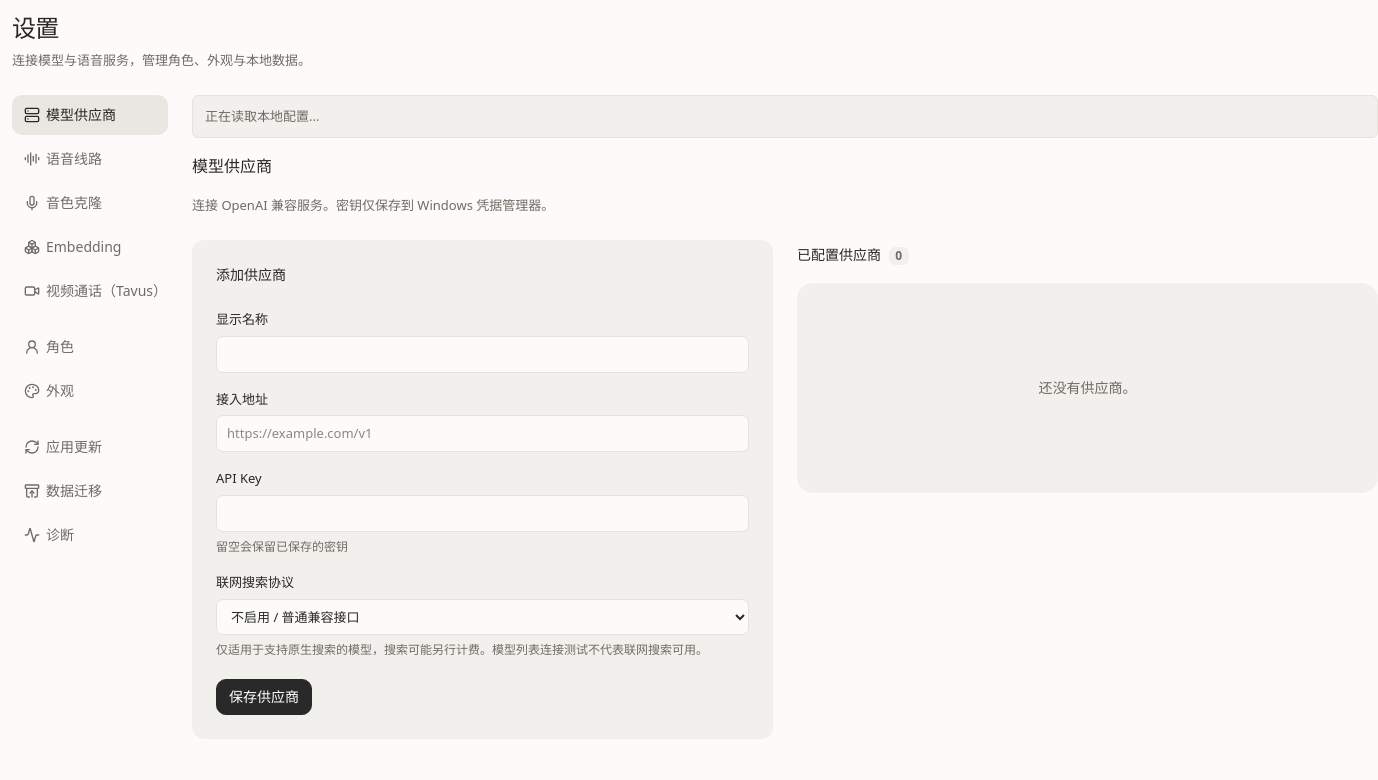
Test case: SettingsPage service categories › edits an existing reference and updates metadata without rerecording
Click the button "音色克隆" at (90, 203), box [12,183,168,223]
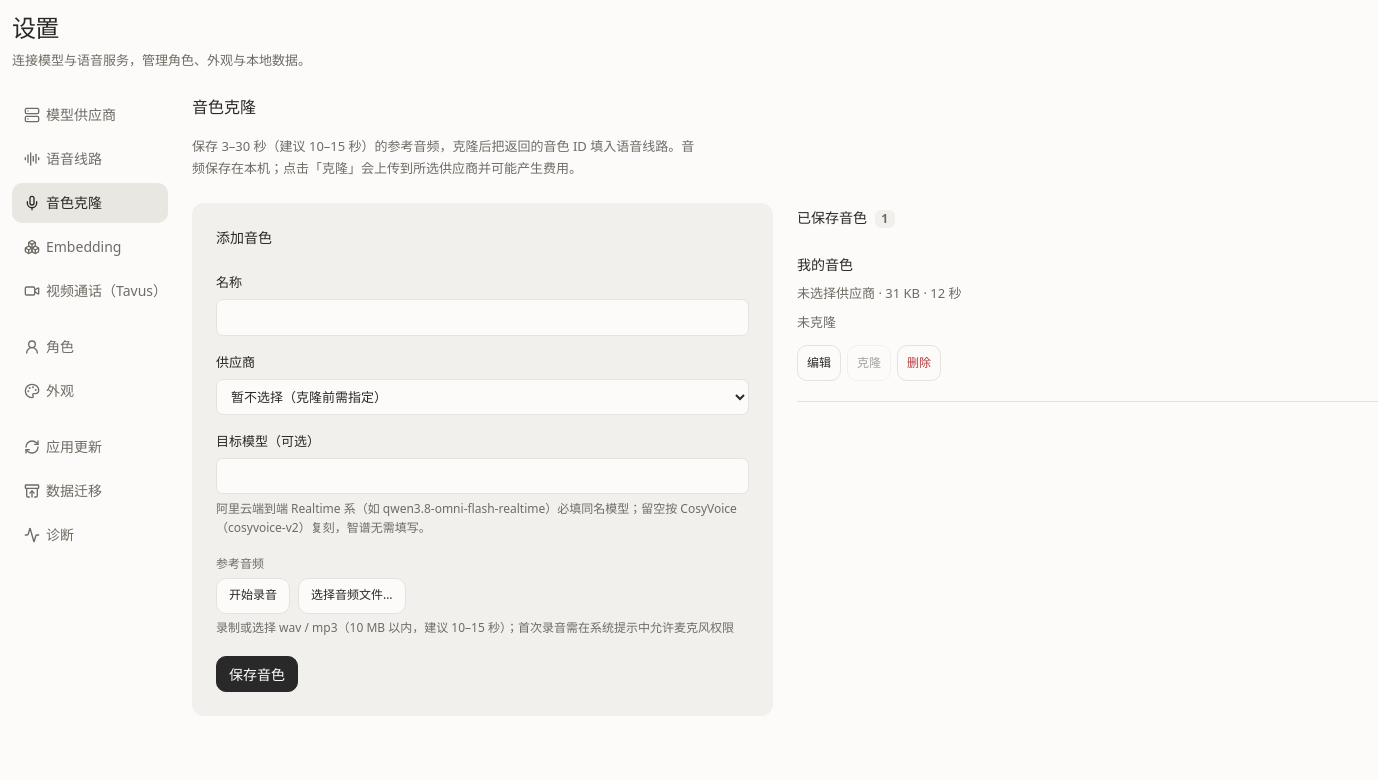
Now the heading "我的音色" is shown, box [797,255,853,274]
Click the button with aria-label "编辑 我的音色" at (819, 363), box [797,345,841,381]
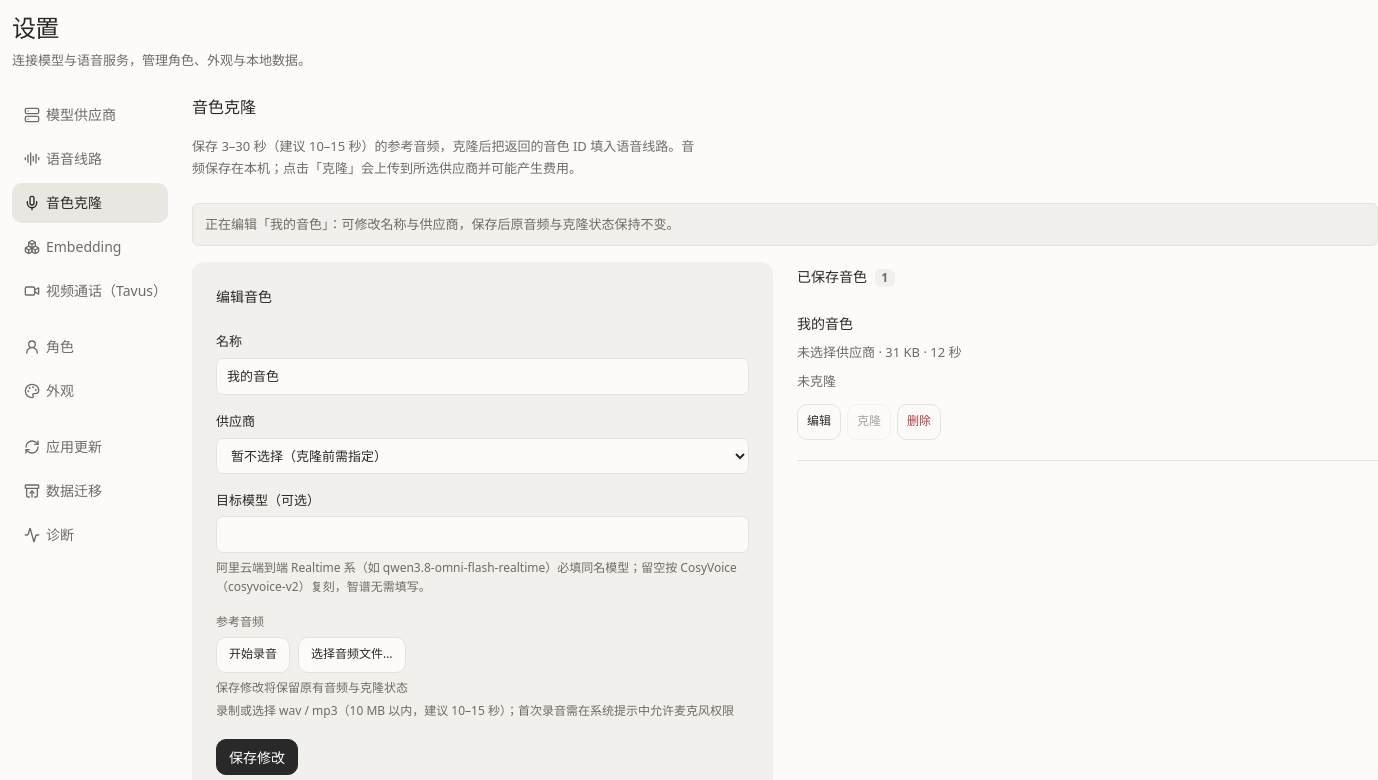
Now the text "正在编辑「我的音色」：可修改名称与供应商，保存后原音频与克隆状态保持不变。" is shown, box [192,203,1377,246]
Select "zcode" in the dropdown labelled "供应商" at (482, 456), box [216,438,749,474]
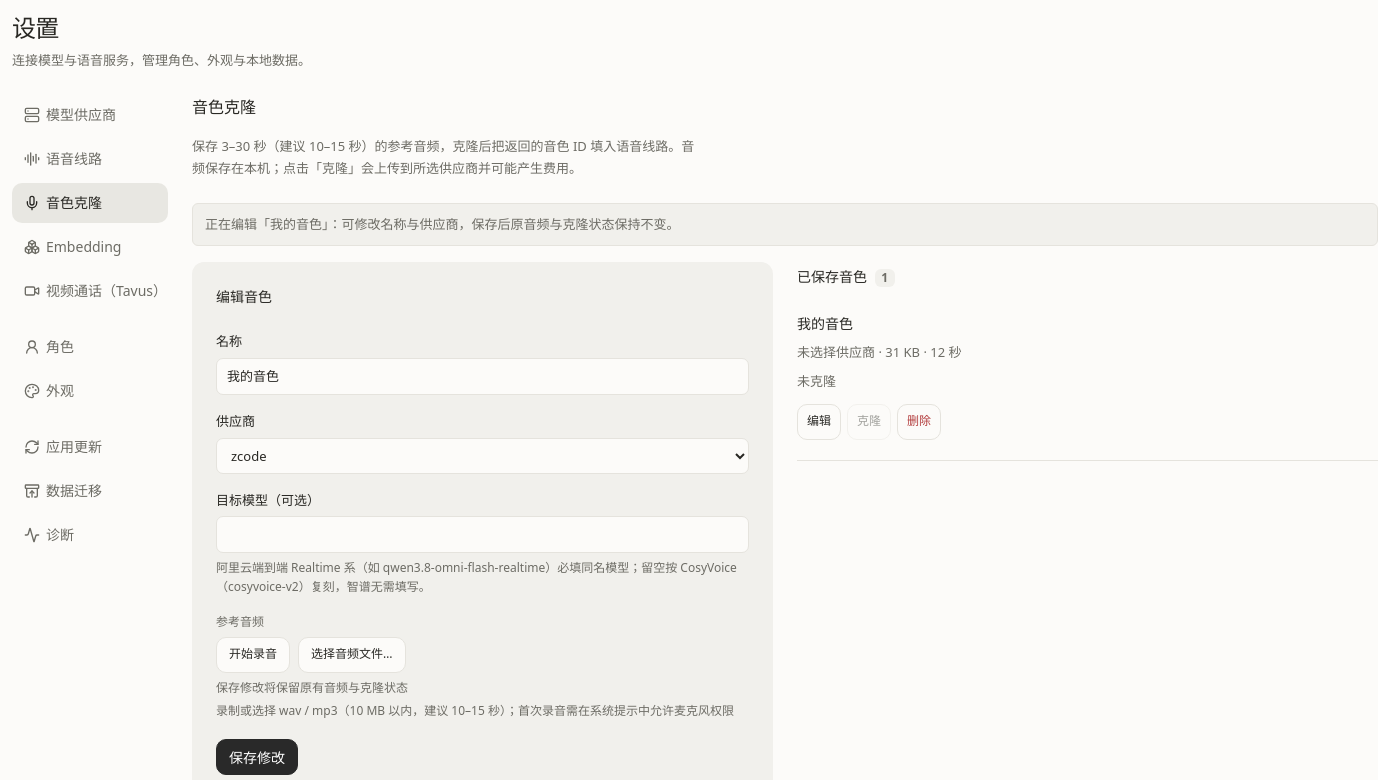
Click the button "保存修改" at (257, 757), box [216,739,298,775]
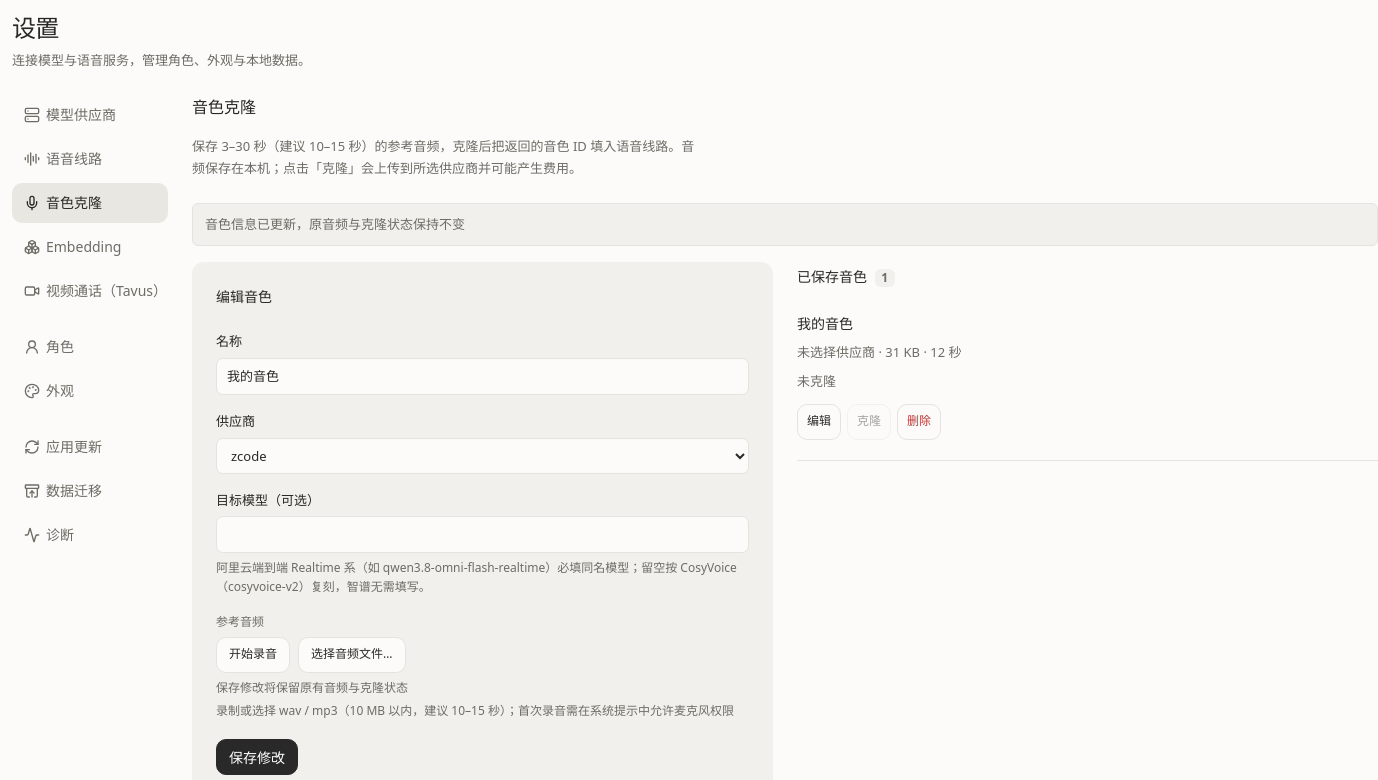
Now the text "音色信息已更新，原音频与克隆状态保持不变" is shown, box [192,203,1377,246]
